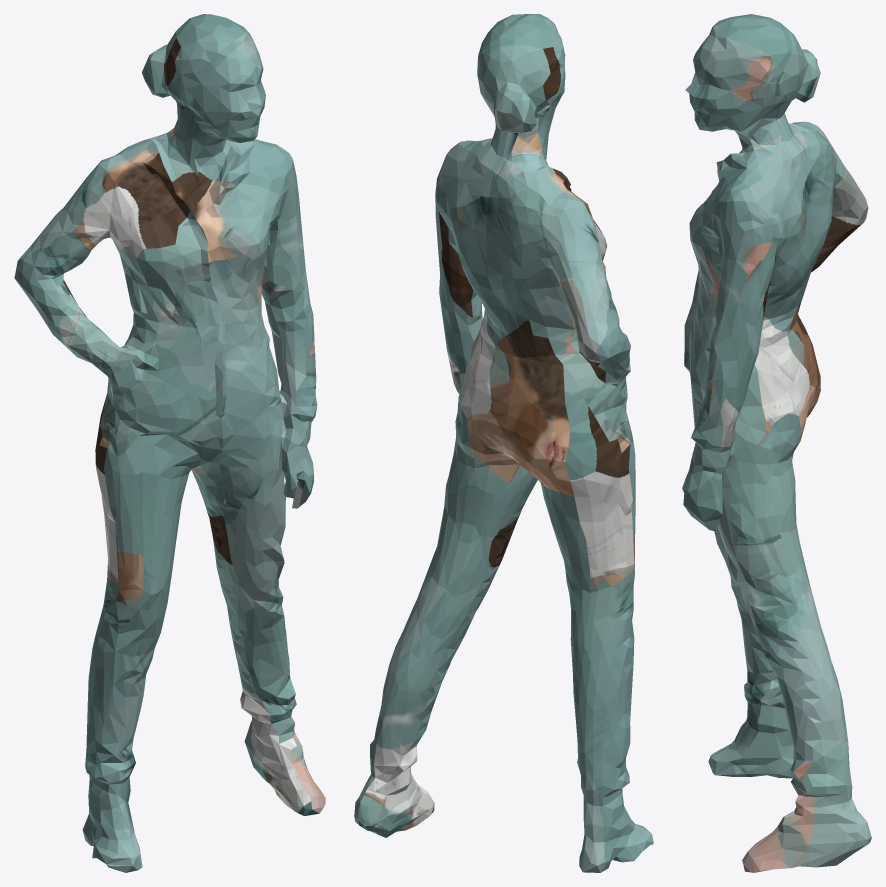
File: girl_13.glb
3 views of the same model, side by side, from view 1: azimuth 30°, elevation 25°; view 2: azimuth 150°, elevation 25°; view 3: azimuth 270°, elevation 25° (orthographic).
Visible parts, largest first — view 1: girl_13; view 2: girl_13; view 3: girl_13.
Boxes of the visible parts, box(x1,y1,x2,y2) form: girl_13: box(14, 14, 325, 872); girl_13: box(354, 14, 653, 872); girl_13: box(682, 14, 871, 872).
Size of the model in its own units: 0.5554 by 1.64 by 0.3506.
Materials: 1 (1 with a texture image).
